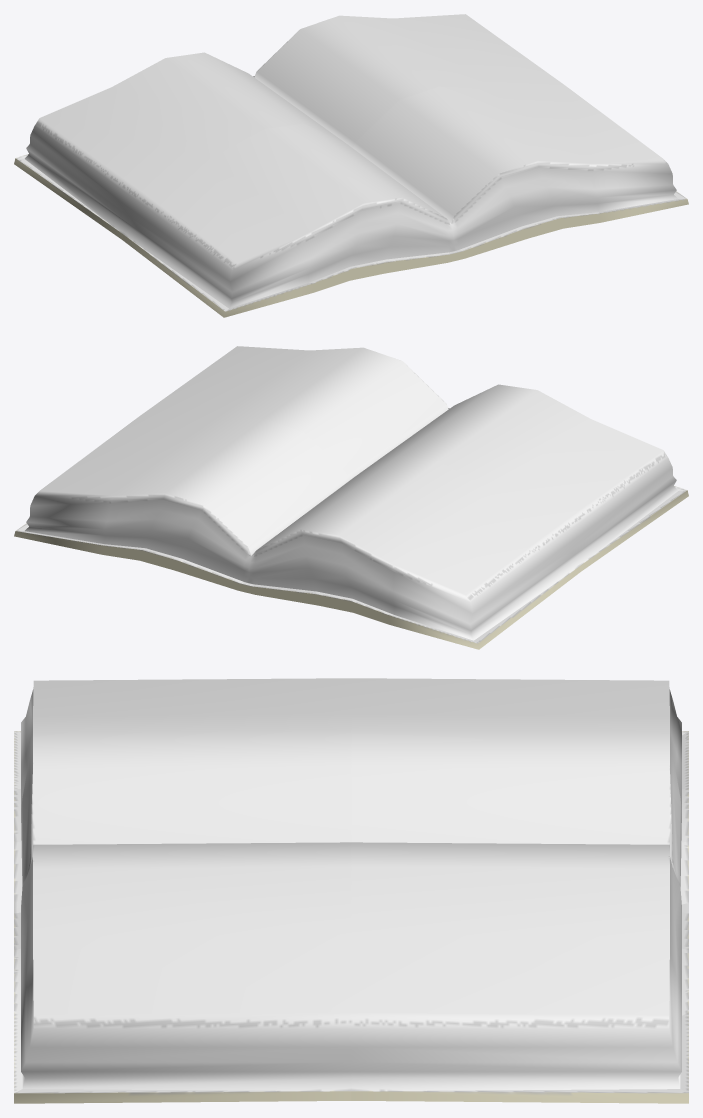
Rendered from k_book.fbx.
3 views of the same model, one above another, from view 1: azimuth 30°, elevation 25°; view 2: azimuth 150°, elevation 25°; view 3: azimuth 270°, elevation 25° (orthographic). The views are drawn at different scales.
Parts seen in each view (by area): view 1: book_m; view 2: book_m; view 3: book_m.
Part boxes in pixels (<box>): book_m: <box>14,14,688,317</box>; book_m: <box>14,346,688,649</box>; book_m: <box>14,678,688,1103</box>.
Size of the model in its own units: 66.03 by 10.36 by 51.64.
